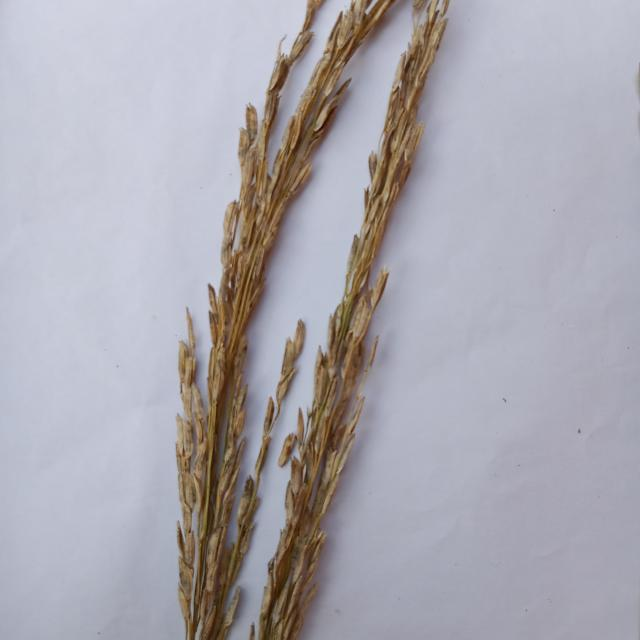Neck_Blast: (173, 0, 395, 640), (255, 1, 457, 636)
